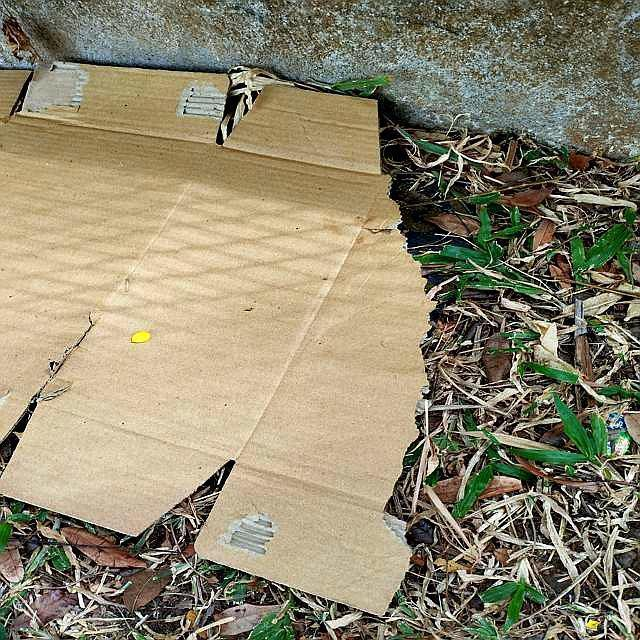Biodegradable: (1, 54, 470, 630)
